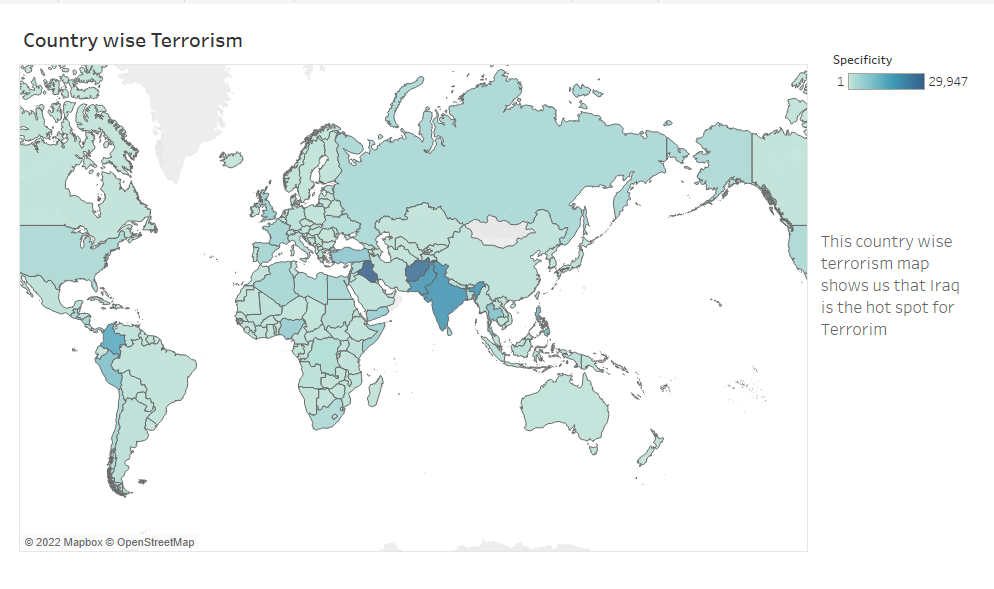

The dashboard page shown, as its layout file describes it:
{"tool":"tableau","page":{"name":"Dashboard 1","canvas":[1000,800],"ordinal":0},"visuals":[{"type":"worksheet","title":"Sheet 1","mark":"Automatic","box":[20,17,789,531]},{"type":"worksheet","title":"Sheet 1","mark":"Automatic","param":"[federated.128an8n1bcykg514ba4us0d49eqt].[sum:specificity:qk]","box":[834,47,140,76]},{"type":"worksheet","box":[819,194,153,177]}]}

Visuals, with their boxes on the page's 1000x800 design canvas (x1, y1, x2, y2). These are canvas units, not pixel positions in the 994x589 screenshot, which may show the page scaled, cropped or inside an application window:
"Sheet 1" worksheet: 20/17/809/548
"Sheet 1" worksheet: 834/47/974/123
worksheet: 819/194/972/371
